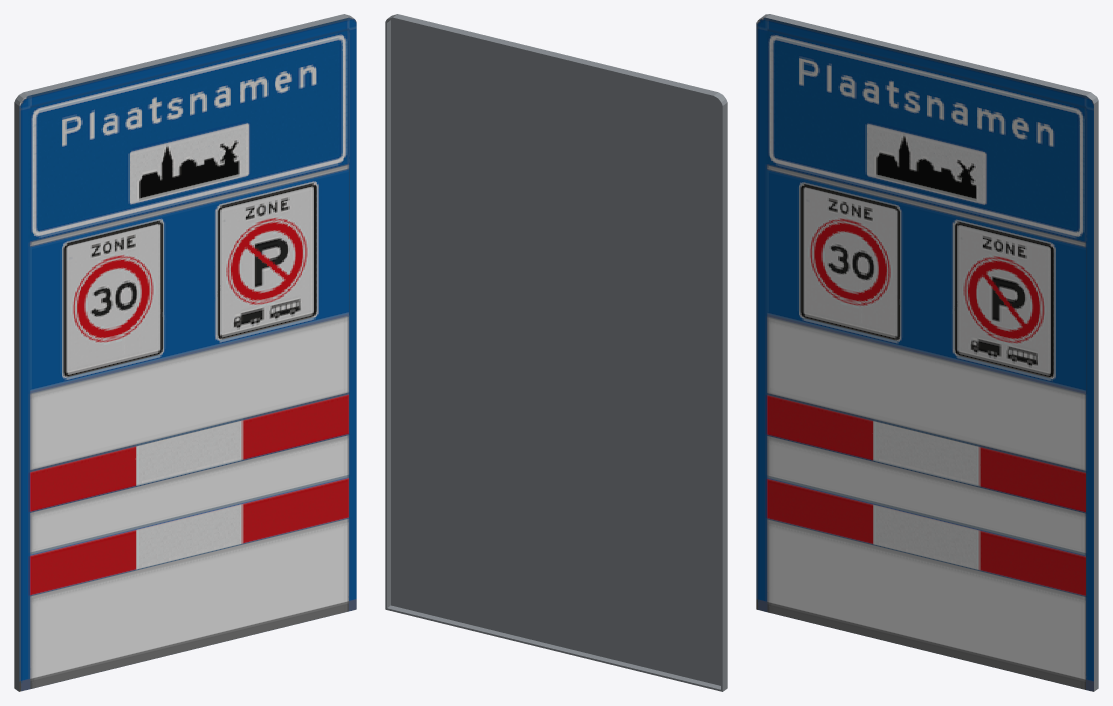
3 views of the same model, side by side, from view 1: azimuth 30°, elevation 25°; view 2: azimuth 150°, elevation 25°; view 3: azimuth 330°, elevation 25° (orthographic).
Parts seen in each view (by area): view 1: cat_8b25da25e69e46d9; view 2: cat_8b25da25e69e46d9; view 3: cat_8b25da25e69e46d9.
Boxes of the visible parts, left/top/right/bottom form: cat_8b25da25e69e46d9: left=14, top=14, right=356, bottom=691; cat_8b25da25e69e46d9: left=385, top=14, right=727, bottom=691; cat_8b25da25e69e46d9: left=756, top=14, right=1098, bottom=691.
Size of the model in its own units: 0.6 by 0.015 by 1.01.
Materials: 2 (1 with a texture image).
